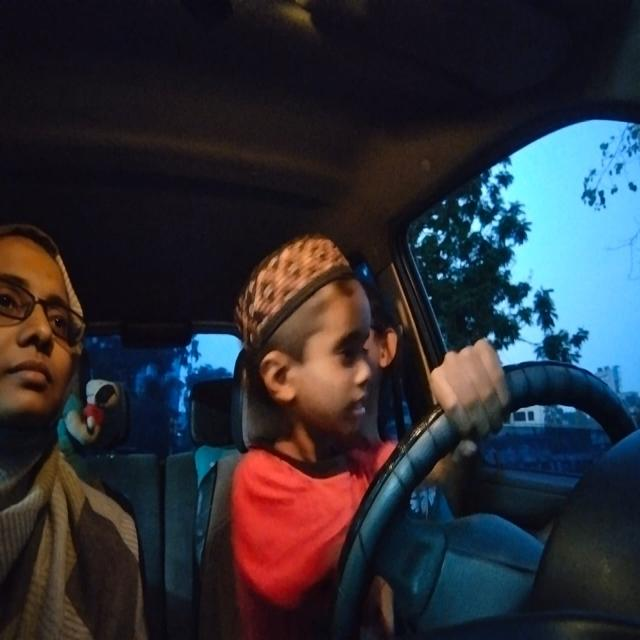child: (231, 244, 377, 432), (4, 219, 90, 436)
